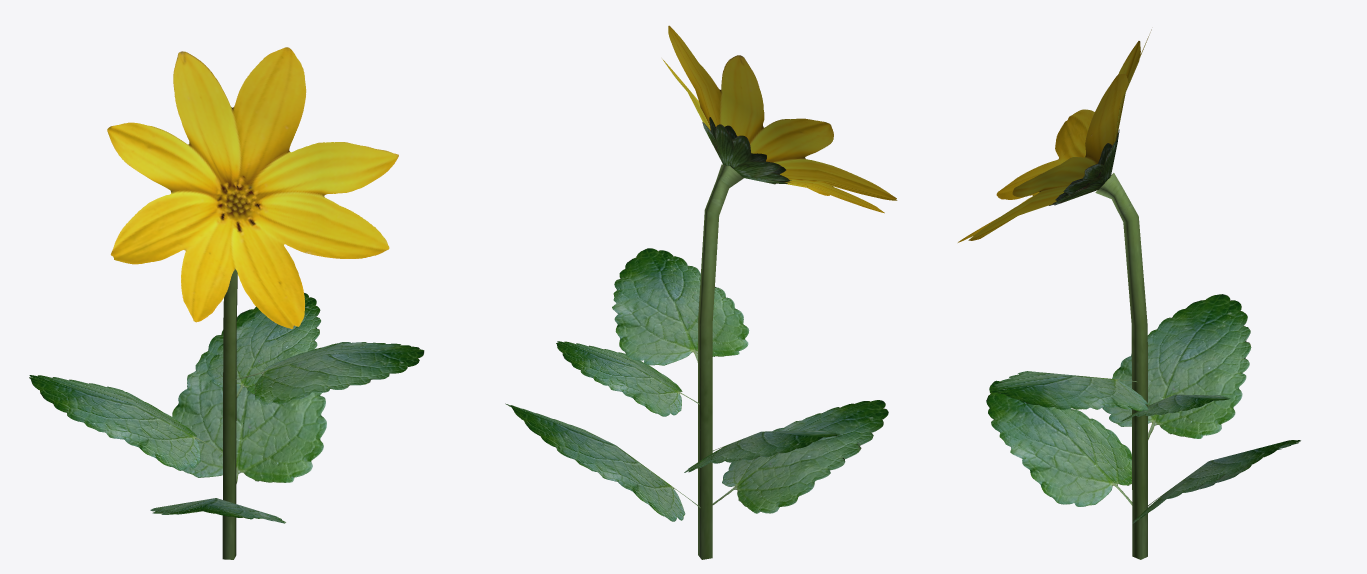
File: Flower_07.FBX
The picture shows the model from 3 angles, left to right: view 1: azimuth 30°, elevation 25°; view 2: azimuth 150°, elevation 25°; view 3: azimuth 270°, elevation 25°; orthographic projection.
Visible parts, largest first — view 1: Flower_07; view 2: Flower_07; view 3: Flower_07.
Part boxes in pixels (x1,y1,x2,y2): Flower_07: [29, 47, 424, 559]; Flower_07: [505, 25, 897, 559]; Flower_07: [958, 29, 1300, 559].
Bounding box in the file's own units: 0.5154 × 0.7154 × 0.4975.
